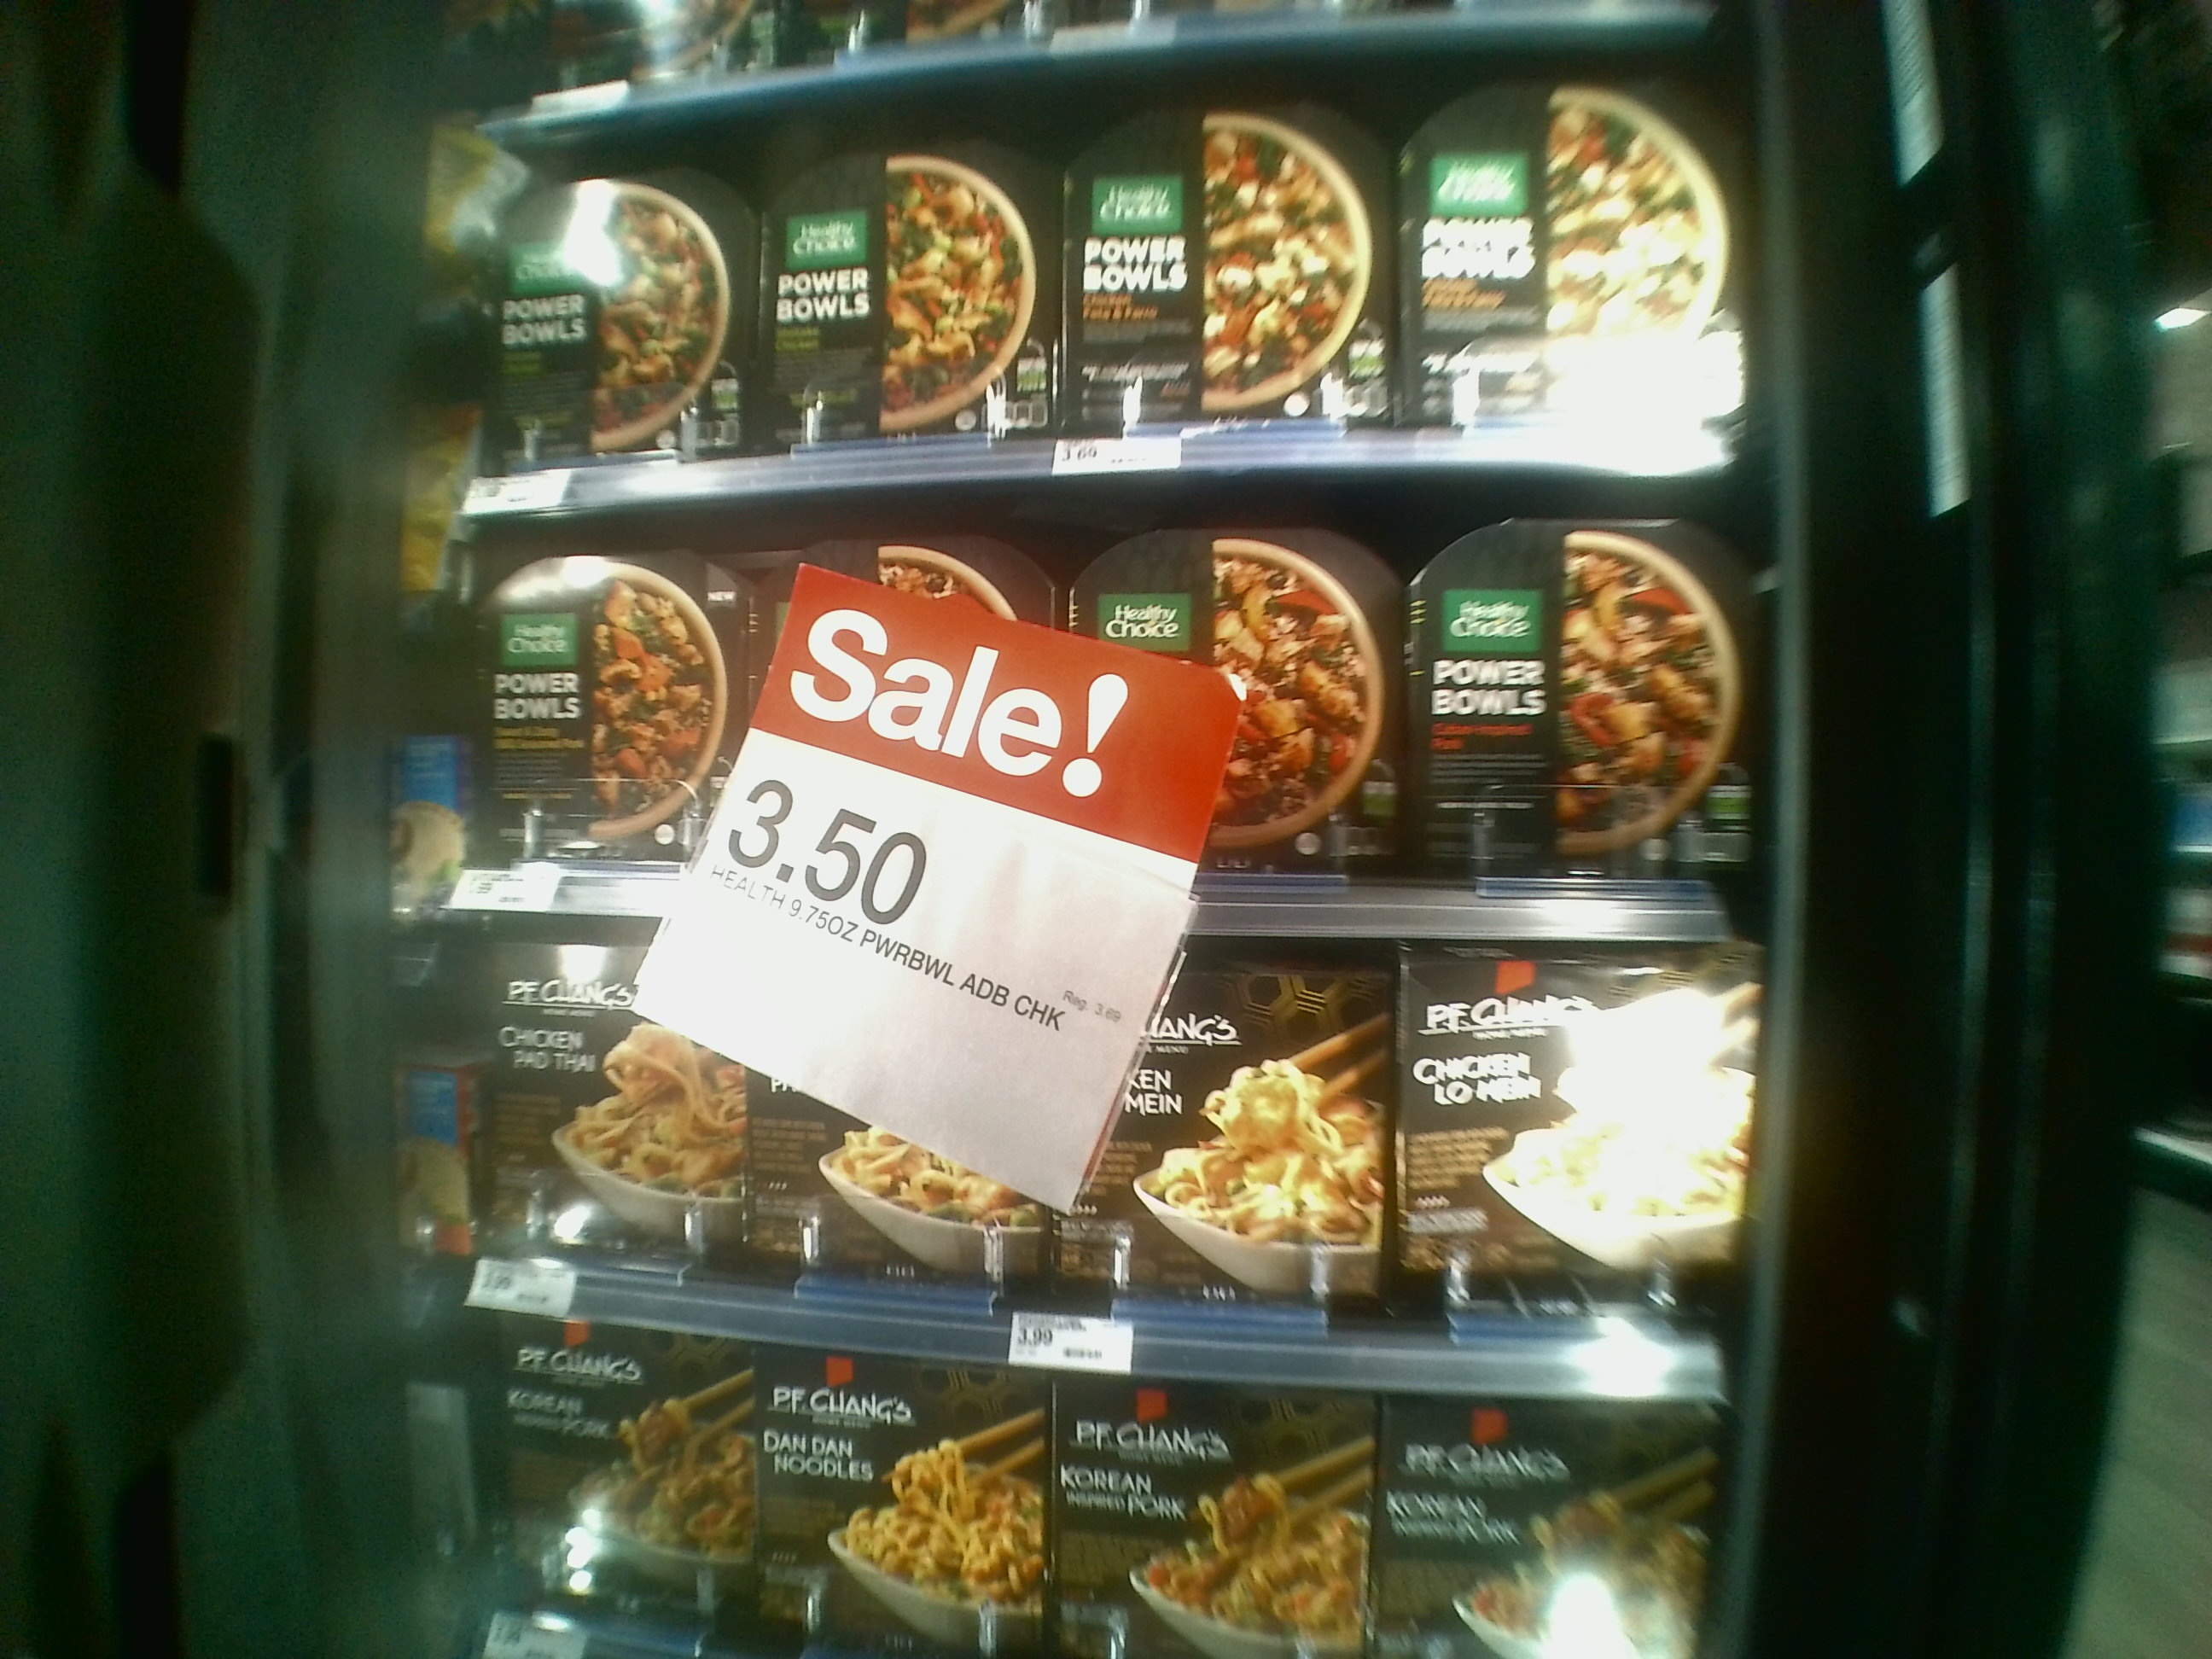shelf: (442, 899, 1737, 1405)
